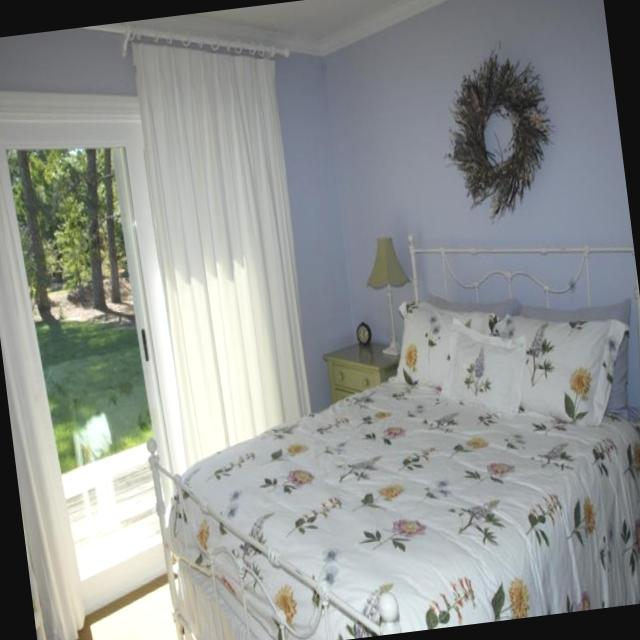bed: (123, 205, 640, 640)
clock: (354, 321, 372, 346)
cupboard: (320, 335, 404, 405)
curtains: (127, 19, 325, 472), (0, 35, 89, 640)
lamps: (361, 233, 418, 358)
plants: (432, 36, 563, 226)
table: (625, 394, 640, 601)
window: (0, 101, 189, 604)
